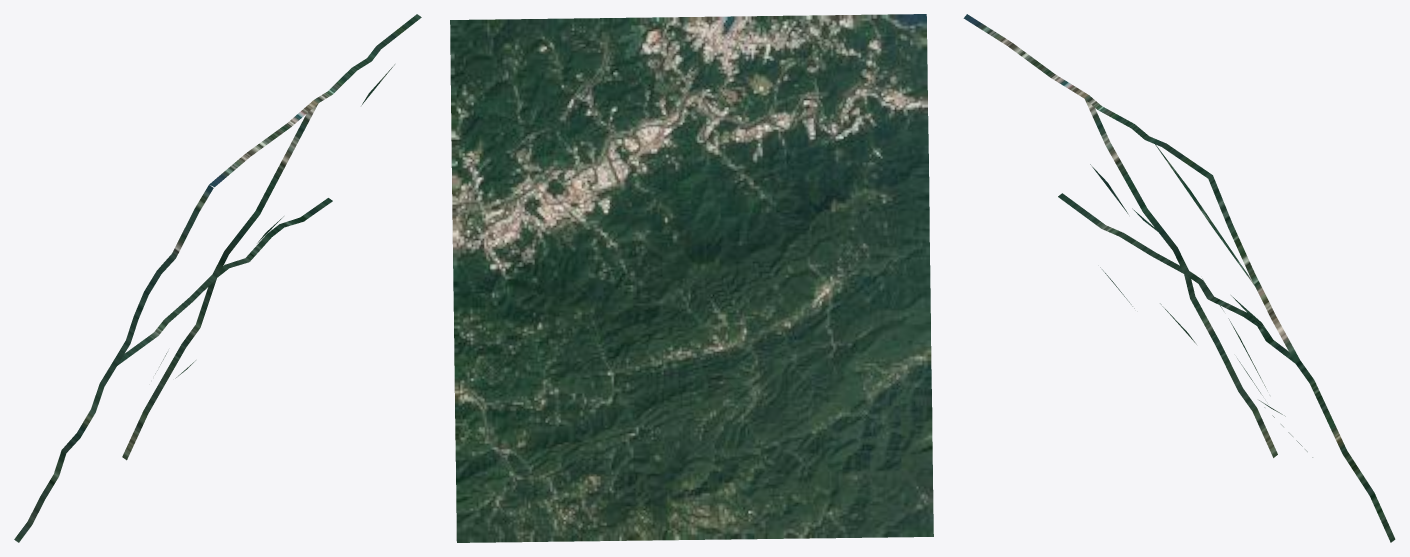
3 renders of one model, left to right at view 1: azimuth 30°, elevation 25°; view 2: azimuth 150°, elevation 25°; view 3: azimuth 270°, elevation 25°, orthographic. The views are drawn at different scales.
Bounding box in the file's own units: 19836 × 17861 × 16891.
1 material, 1 textured.
